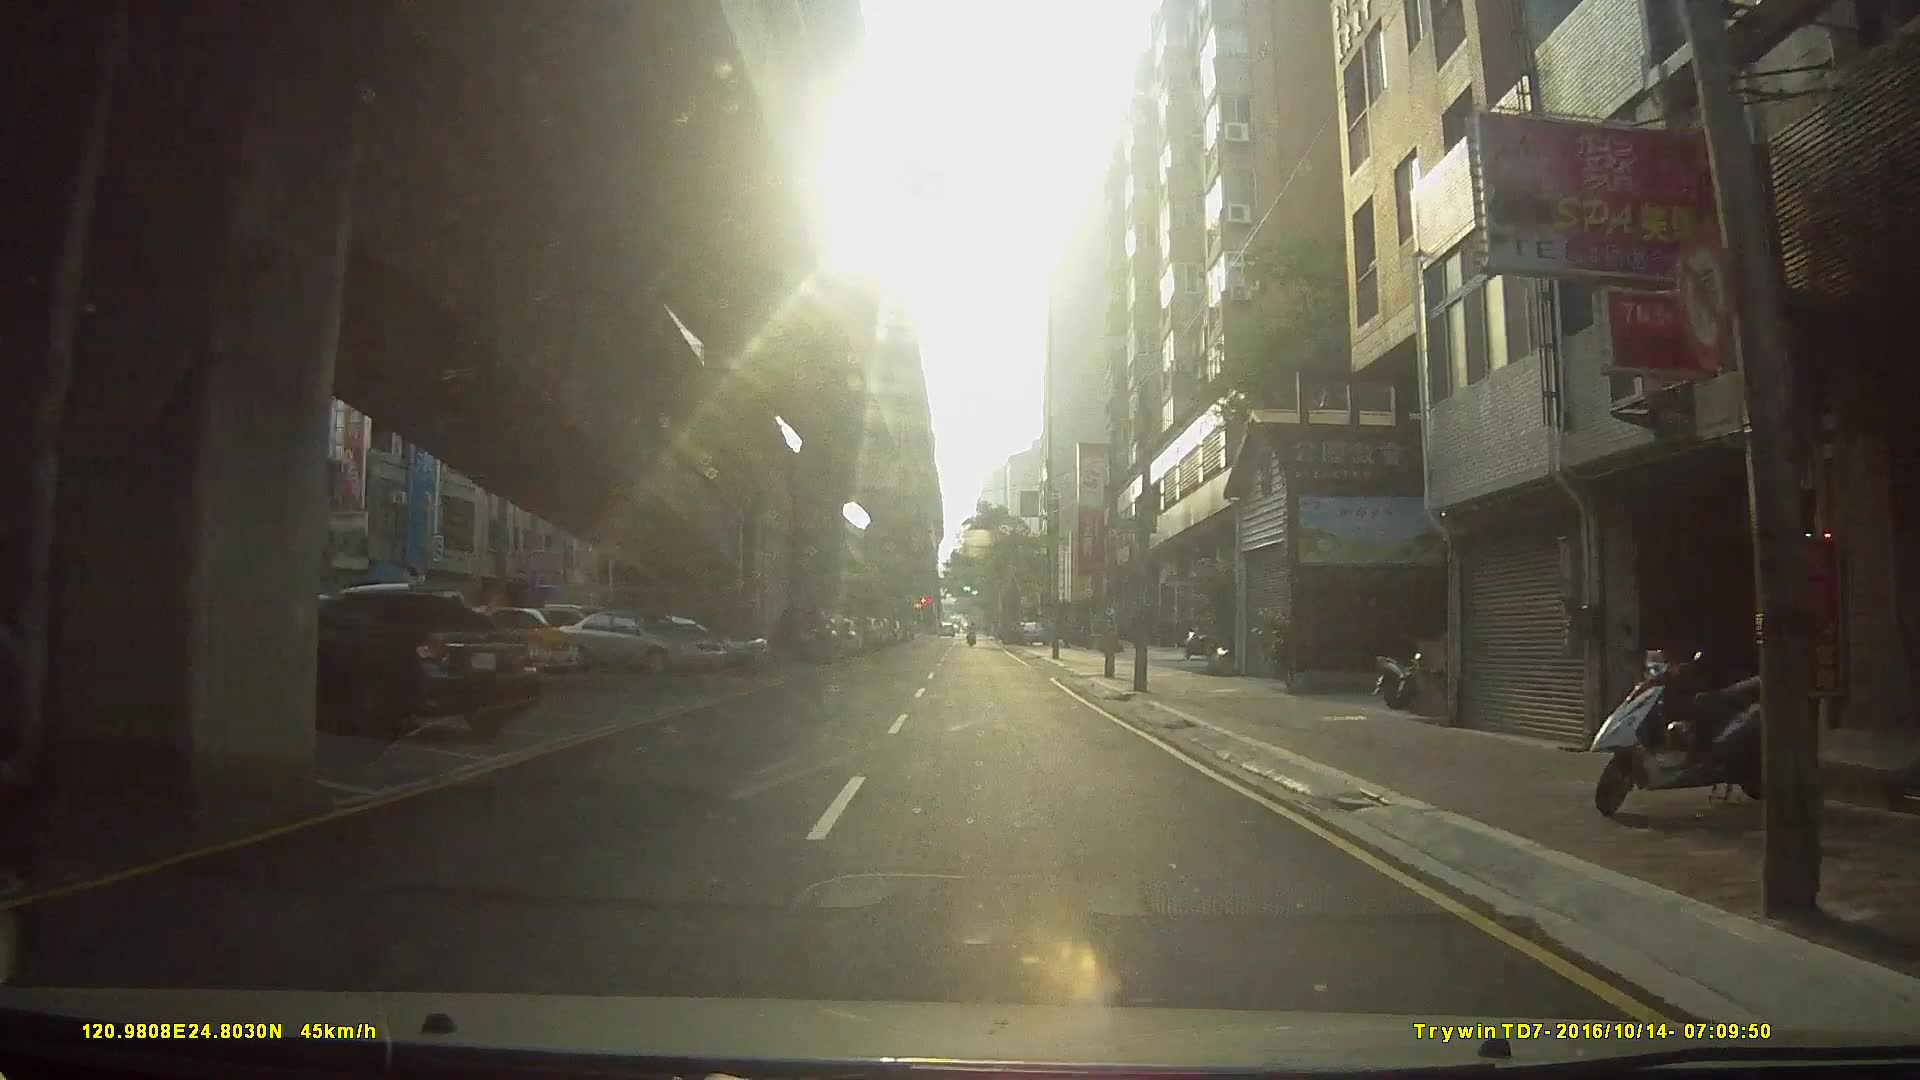vehicle: (258, 591, 543, 744), (549, 607, 727, 673), (770, 603, 840, 663)
